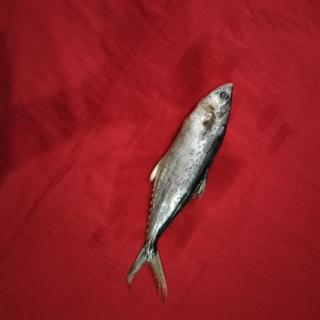Ikan: (126, 80, 237, 292)
